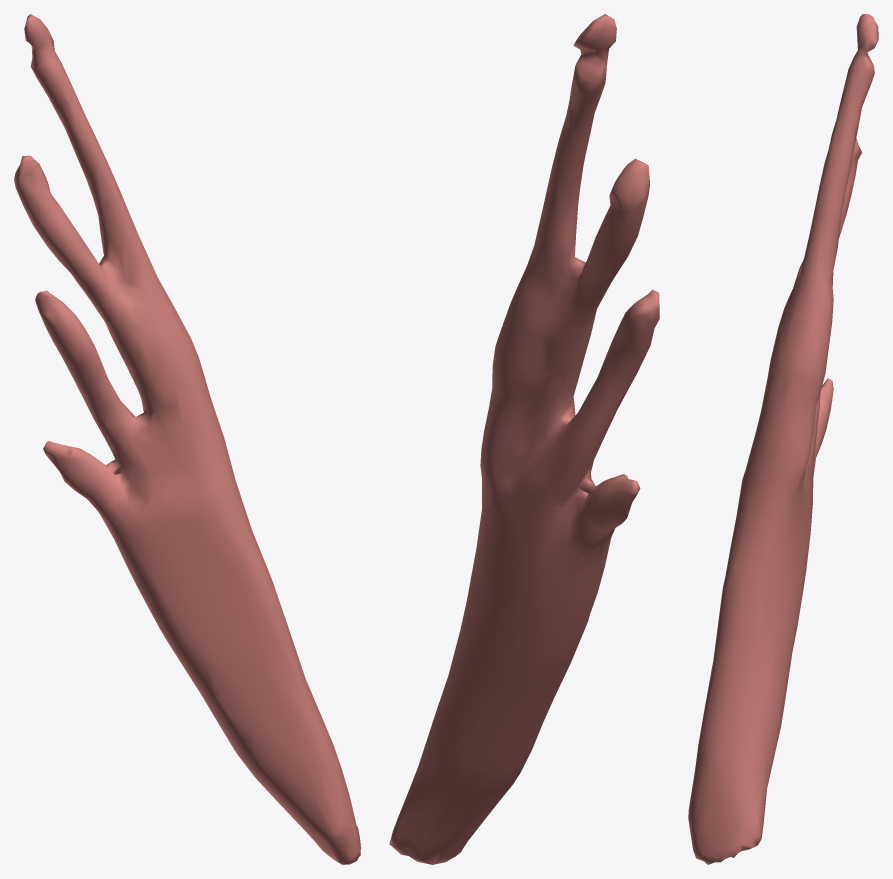
Rendered from fma13393_mm1294.glb.
The picture shows the model from 3 angles, left to right: view 1: azimuth 30°, elevation 25°; view 2: azimuth 150°, elevation 25°; view 3: azimuth 270°, elevation 25°; orthographic projection. The views are drawn at different scales.
Visible parts, largest first — view 1: FMA13393_MM1294; view 2: FMA13393_MM1294; view 3: FMA13393_MM1294.
Part boxes in pixels (<box>): FMA13393_MM1294: <box>14,14,360,864</box>; FMA13393_MM1294: <box>389,14,659,864</box>; FMA13393_MM1294: <box>688,14,878,864</box>.
Bounding box in the file's own units: 0.0367 × 0.1056 × 0.0244.
